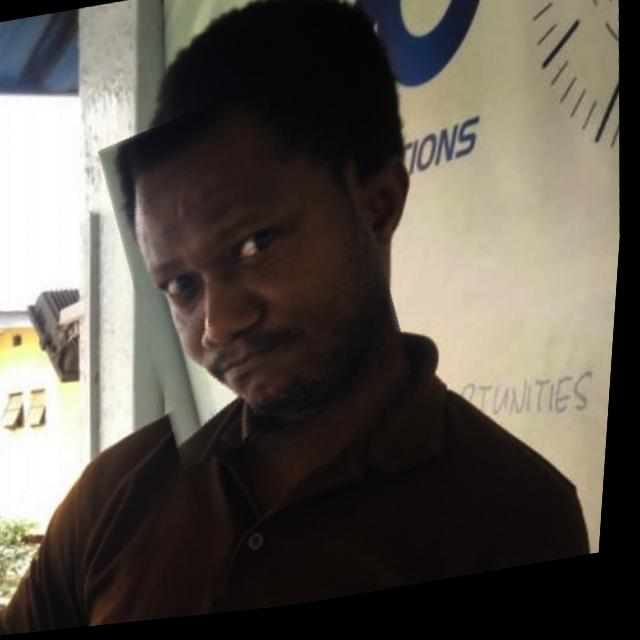sad: (99, 61, 418, 473)
